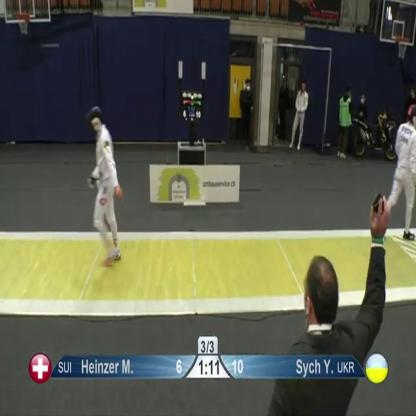crowd: (332, 80, 354, 160), (235, 74, 257, 152), (289, 81, 311, 157), (356, 88, 370, 154), (276, 70, 288, 146)
fencer: (73, 100, 125, 277), (379, 89, 416, 246)
referee: (256, 192, 394, 415)
